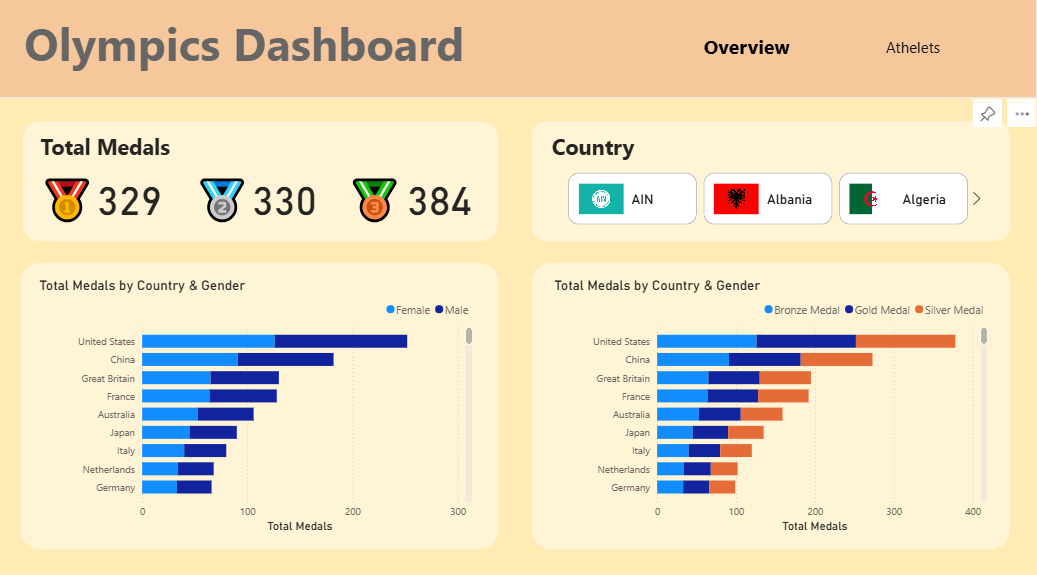

Layout of this report page (visuals, bound fields, positions):
{"tool":"powerbi","page":{"name":"Overview","canvas":[1280,720],"ordinal":0},"visuals":[{"type":"shape","box":[26,330,590,354],"z":0},{"type":"shape","box":[0,0,1280,126],"z":1000},{"type":"shape","box":[656,156,590,148],"z":2000},{"type":"shape","box":[30,156,586,148],"z":3000},{"type":"advancedSlicerVisual","fields":{"Values":["medallists.country"]},"box":[676,214,544,74],"z":4000},{"type":"textbox","box":[676,163,348,84],"z":5000},{"type":"barChart","title":"Total Medals by Country & Gender","fields":{"Y":["Sum(medals_total.Total)"],"Category":["medals_total.country"],"Series":["medallists.gender"]},"box":[44,348,544,320],"z":6000},{"type":"card","fields":{"Values":["Sum(medals_total.Gold Medal)"]},"box":[90,206,144,82],"z":7000},{"type":"textbox","box":[46,212,100,84],"z":8000},{"type":"card","fields":{"Values":["Sum(medals_total.Silver Medal)"]},"box":[280,206,144,82],"z":9000},{"type":"card","fields":{"Values":["Sum(medals_total.Bronze Medal)"]},"box":[472,206,144,82],"z":10000},{"type":"textbox","box":[237,212,100,84],"z":11000},{"type":"textbox","box":[425,212,100,84],"z":12000},{"type":"shape","box":[656,330,590,354],"z":13000},{"type":"barChart","title":"Total Medals by Country & Gender","fields":{"Y":["Sum(medals_total.Total)"],"Category":["medals_total.country"],"Series":["medallists.medal_type"]},"box":[680,348,544,320],"z":14000},{"type":"textbox","box":[26,16,672,94],"z":15000},{"type":"textbox","box":[46,164,348,50],"z":16000},{"type":"pageNavigator","box":[824,38,400,50],"z":17000}]}

Visuals, with their boxes in screenshot pixels (x1, y1, x2, y2), scaled from the page's 1280x720 canvas onto the 1037x575 screenshot:
shape: Rect(21, 264, 499, 546)
shape: Rect(0, 0, 1036, 101)
shape: Rect(531, 125, 1009, 243)
shape: Rect(24, 125, 499, 243)
advancedSlicerVisual - medallists.country: Rect(548, 171, 988, 230)
textbox: Rect(548, 130, 830, 197)
"Total Medals by Country & Gender" barChart: Rect(36, 278, 476, 533)
card - Sum(medals_total.Gold Medal): Rect(73, 165, 190, 230)
textbox: Rect(37, 169, 118, 236)
card - Sum(medals_total.Silver Medal): Rect(227, 165, 344, 230)
card - Sum(medals_total.Bronze Medal): Rect(382, 165, 499, 230)
textbox: Rect(192, 169, 273, 236)
textbox: Rect(344, 169, 425, 236)
shape: Rect(531, 264, 1009, 546)
"Total Medals by Country & Gender" barChart: Rect(551, 278, 992, 533)
textbox: Rect(21, 13, 565, 88)
textbox: Rect(37, 131, 319, 171)
pageNavigator: Rect(668, 30, 992, 70)
